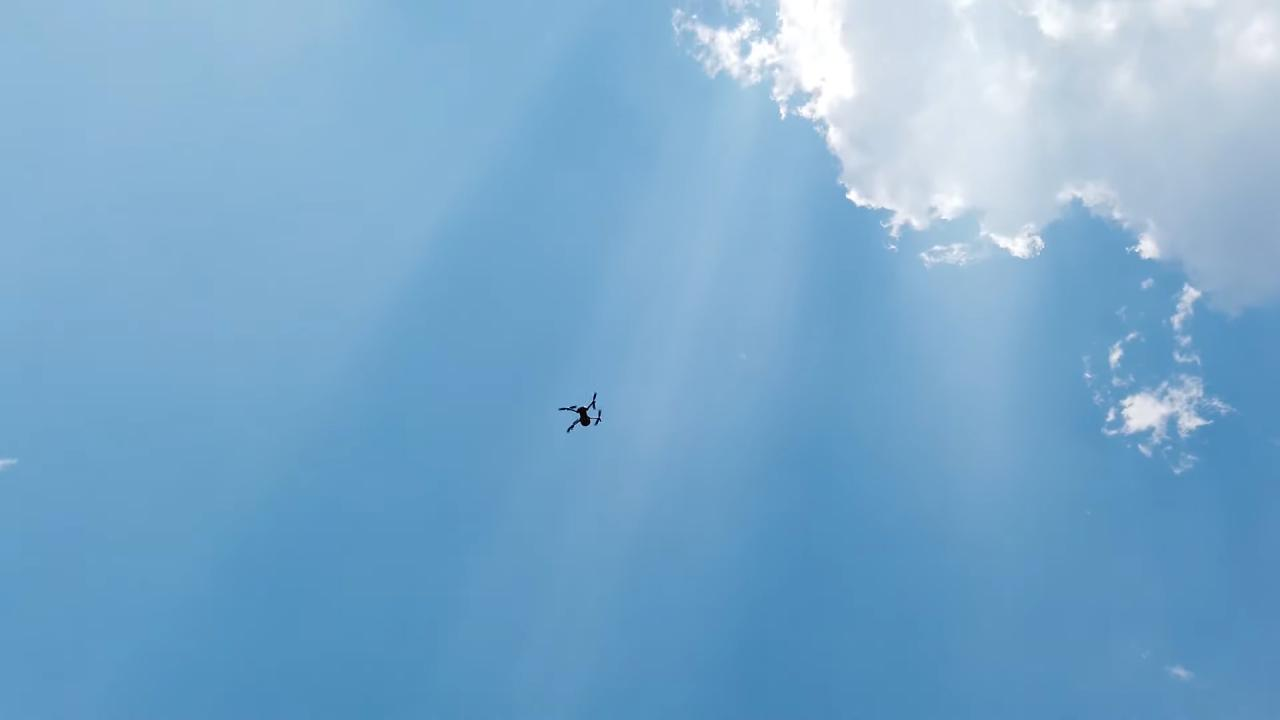Drone: (549, 386, 615, 440)
